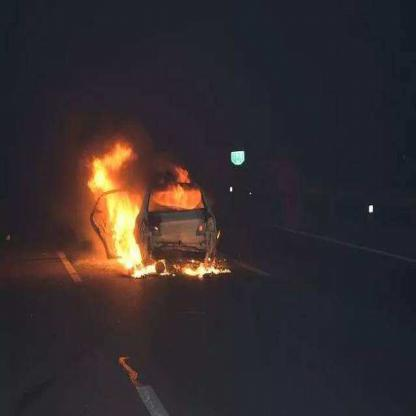fire: (92, 142, 224, 277)
